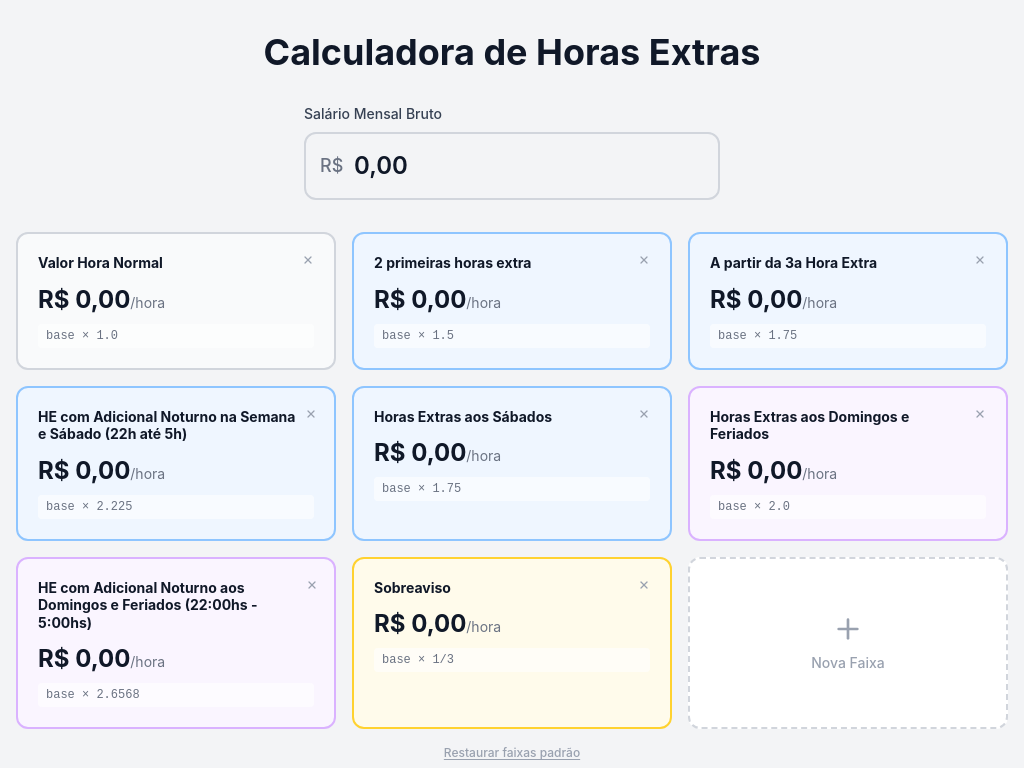
it: App › recalculates results when salary changes
The width and height of the screenshot is (1024, 768).
Type salary of R$ 4000,00 → raw digits "400000"
Type "400000" into the field labelled "Salário Mensal Bruto" at (512,166), box [304,132,720,200]
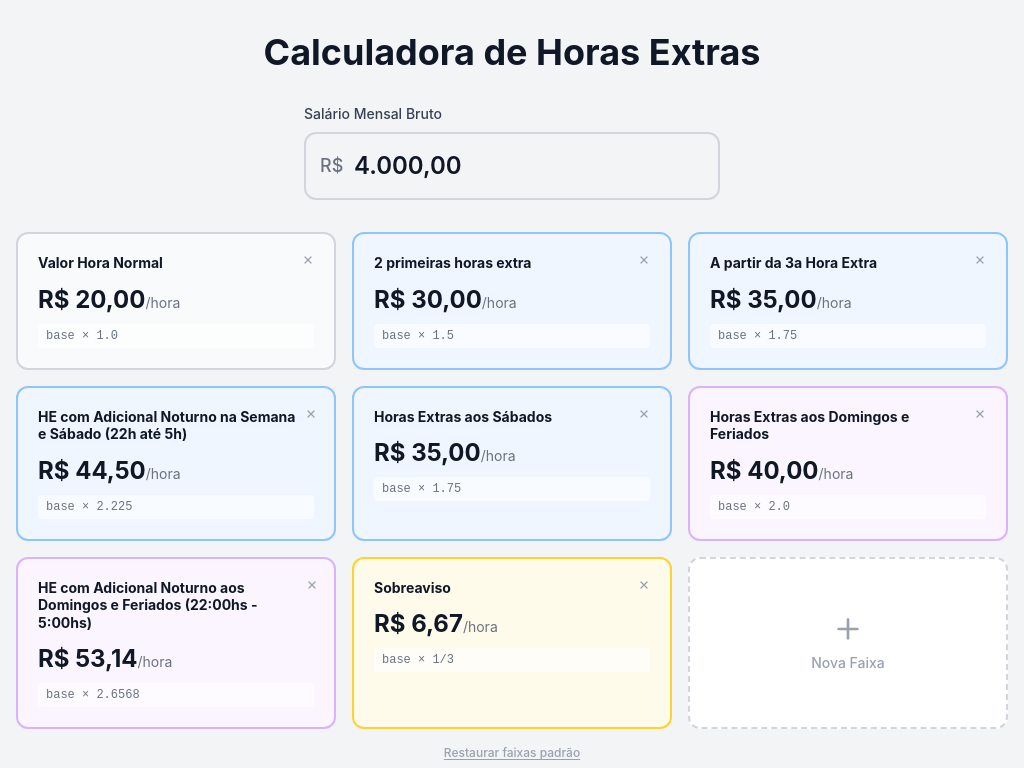
expect the text "R$ 20,00/hora" is shown: met, box [38,284,180,314]
